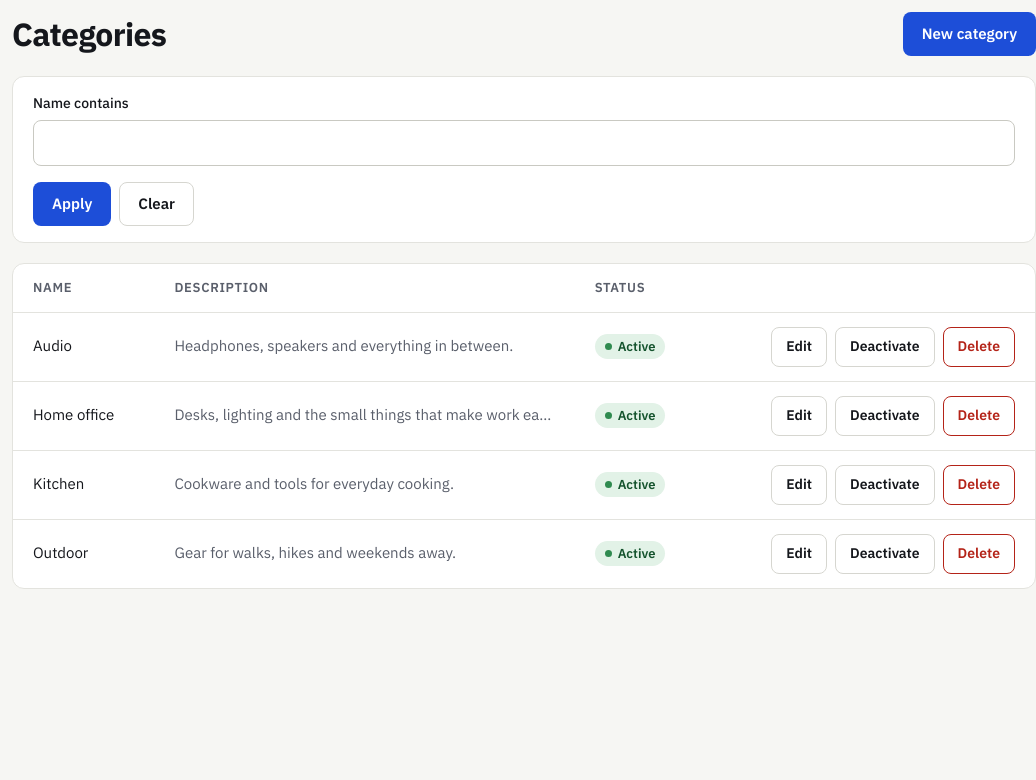
Scenario: Admin categories › lists categories and filters by name
Expected: the row "Audio" is shown, x1=13 y1=312 x2=1035 y2=381
Expected: the number of rows is 5, x1=13 y1=264 x2=1035 y2=312; x1=13 y1=312 x2=1035 y2=381; x1=13 y1=381 x2=1035 y2=450; x1=13 y1=450 x2=1035 y2=519; x1=13 y1=519 x2=1035 y2=588
Type "kitch" into the field labelled "Name contains".
click(524, 143); type("kitch")  # box x1=33 y1=120 x2=1015 y2=166
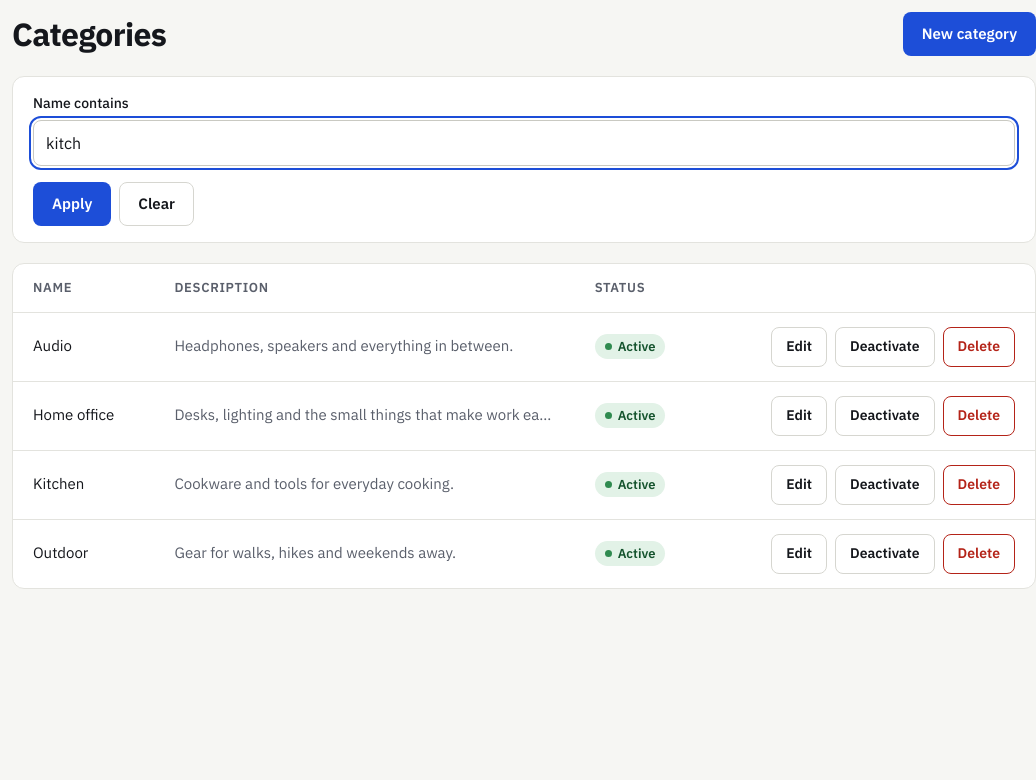
Click the button "Apply".
click(72, 204)  # box x1=33 y1=182 x2=111 y2=226
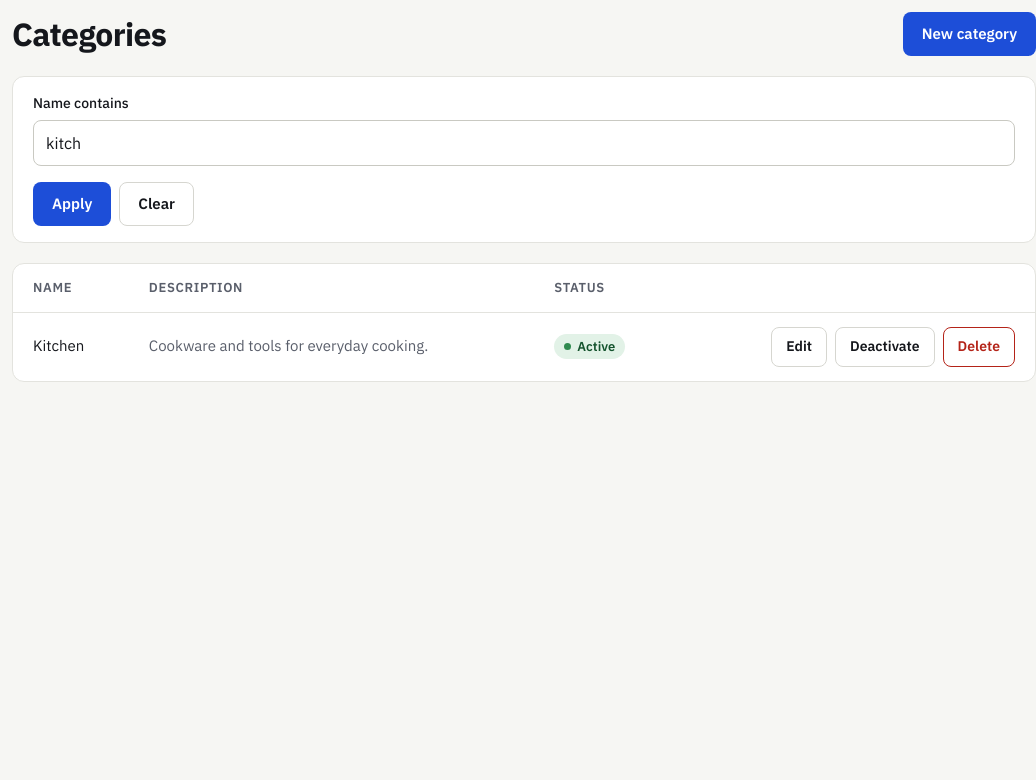
Expected: the number of rows is 2, x1=13 y1=264 x2=1035 y2=312; x1=13 y1=312 x2=1035 y2=380
